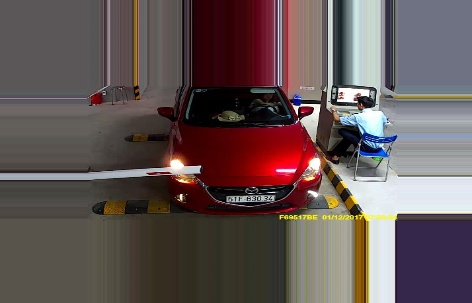plate: (224, 193, 275, 204)
